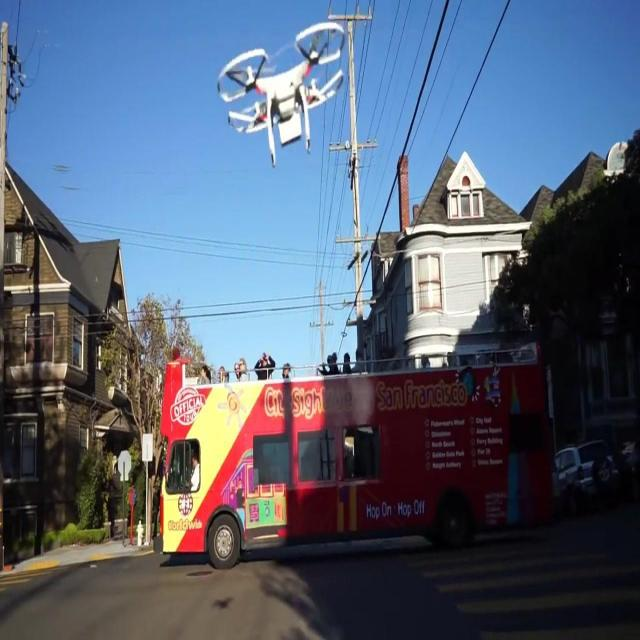drone: (216, 18, 348, 168)
